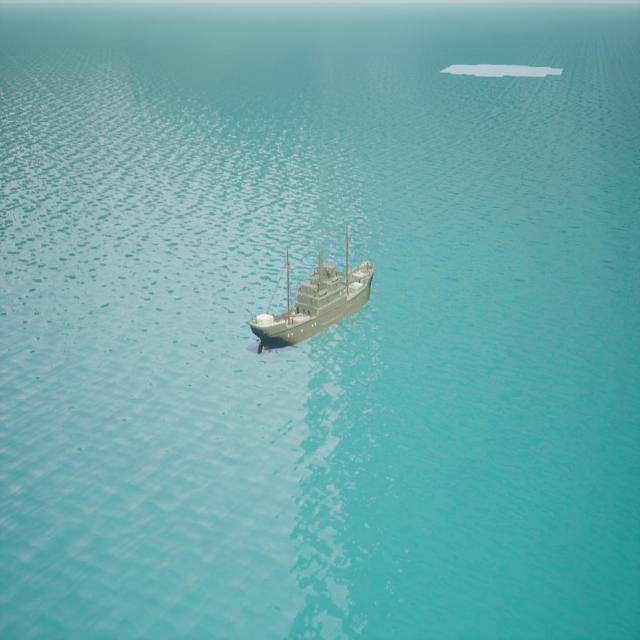fishing ship: (251, 256, 374, 355)
